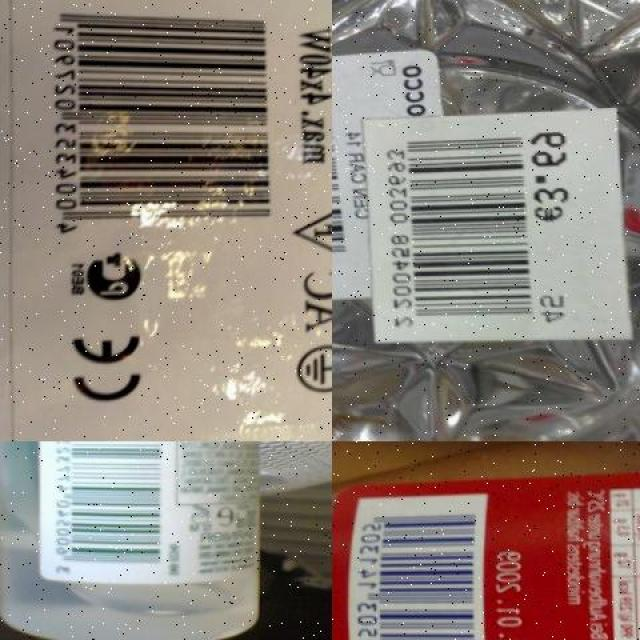Barcode: (361, 108, 631, 344), (28, 0, 284, 244), (343, 493, 489, 640), (46, 441, 166, 576), (332, 56, 388, 301)
